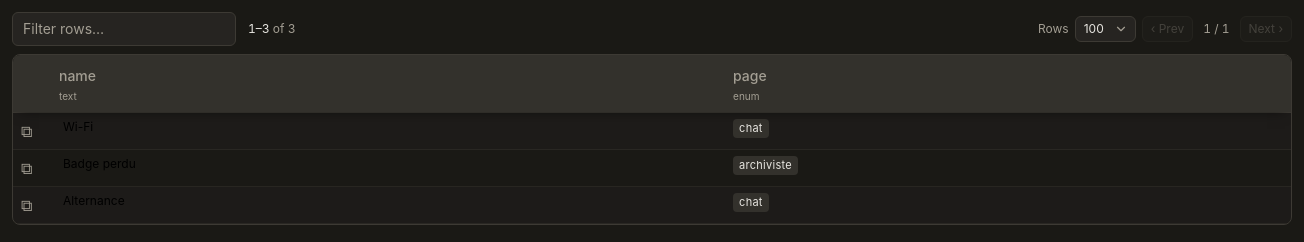
Test case: DataGrid — filtering › matches across every column, case-insensitively
Type "ARCHIV" into the field with placeholder "Filter rows…" at (124, 29), box left=12, top=12, right=236, bottom=46
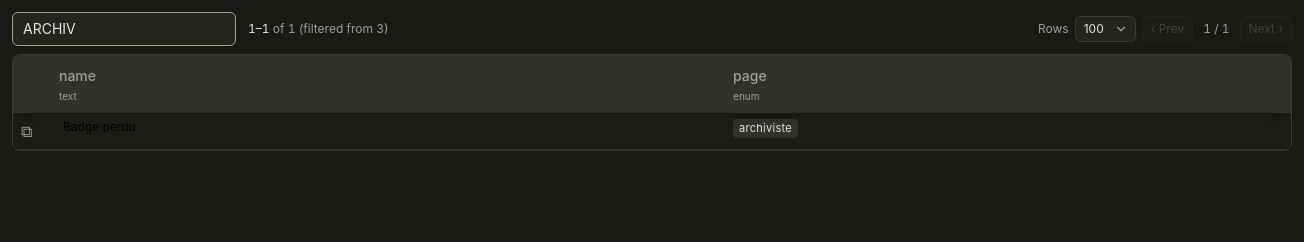
Expected: the button "Badge perdu" is shown, left=59, top=119, right=140, bottom=135
